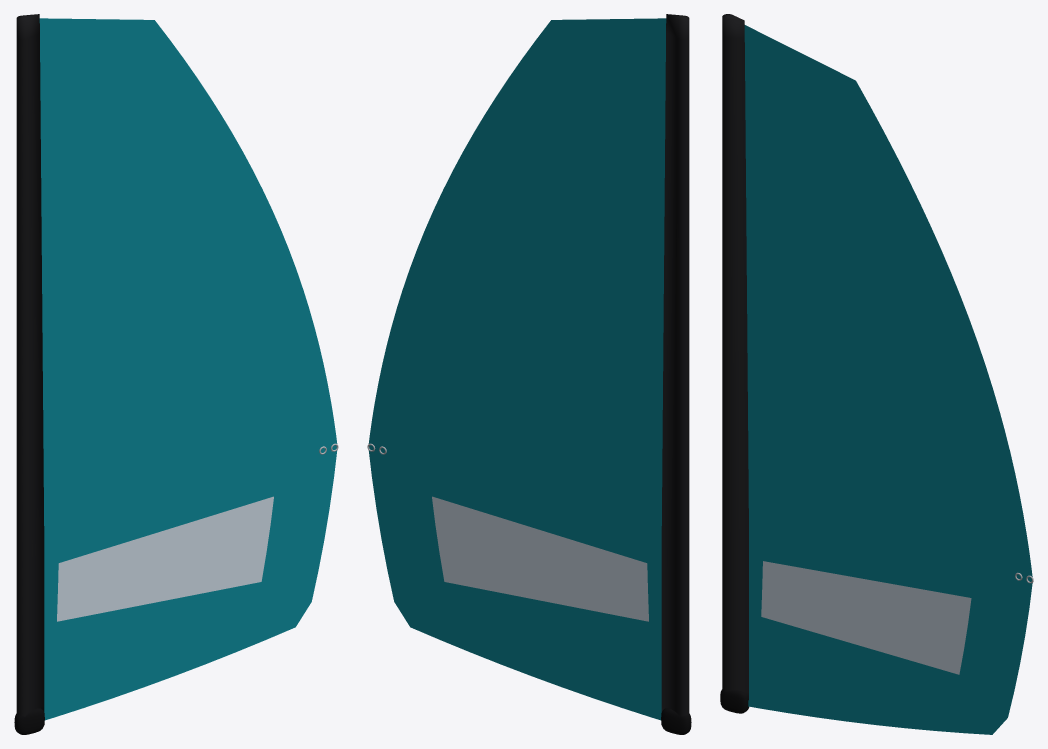
File: s3kauai_freerace_7_0.glb
The picture shows the model from 3 angles, left to right: view 1: azimuth 30°, elevation 25°; view 2: azimuth 150°, elevation 25°; view 3: azimuth 330°, elevation 25°; orthographic projection. The views are drawn at different scales.
Visible parts, largest first — view 1: SailCloth, TackFairing; view 2: SailCloth, TackFairing; view 3: SailCloth, TackFairing.
Part boxes in pixels (x1,y1,x2,y2): SailCloth: (16, 14, 337, 720); TackFairing: (14, 708, 44, 734); SailCloth: (368, 14, 689, 720); TackFairing: (661, 708, 691, 734); SailCloth: (722, 14, 1032, 734); TackFairing: (720, 689, 749, 713).
Size of the model in its own units: 2.09 by 4.45 by 0.08.
